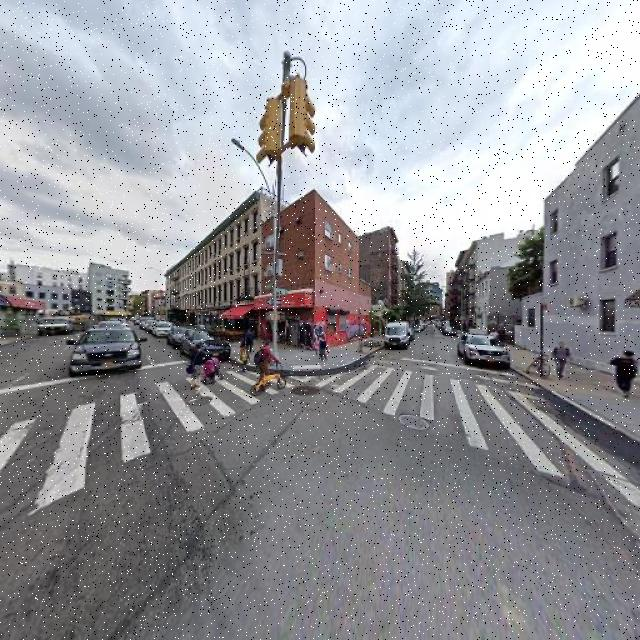Building: (550, 110, 640, 385), (263, 193, 372, 345), (173, 195, 261, 338)
